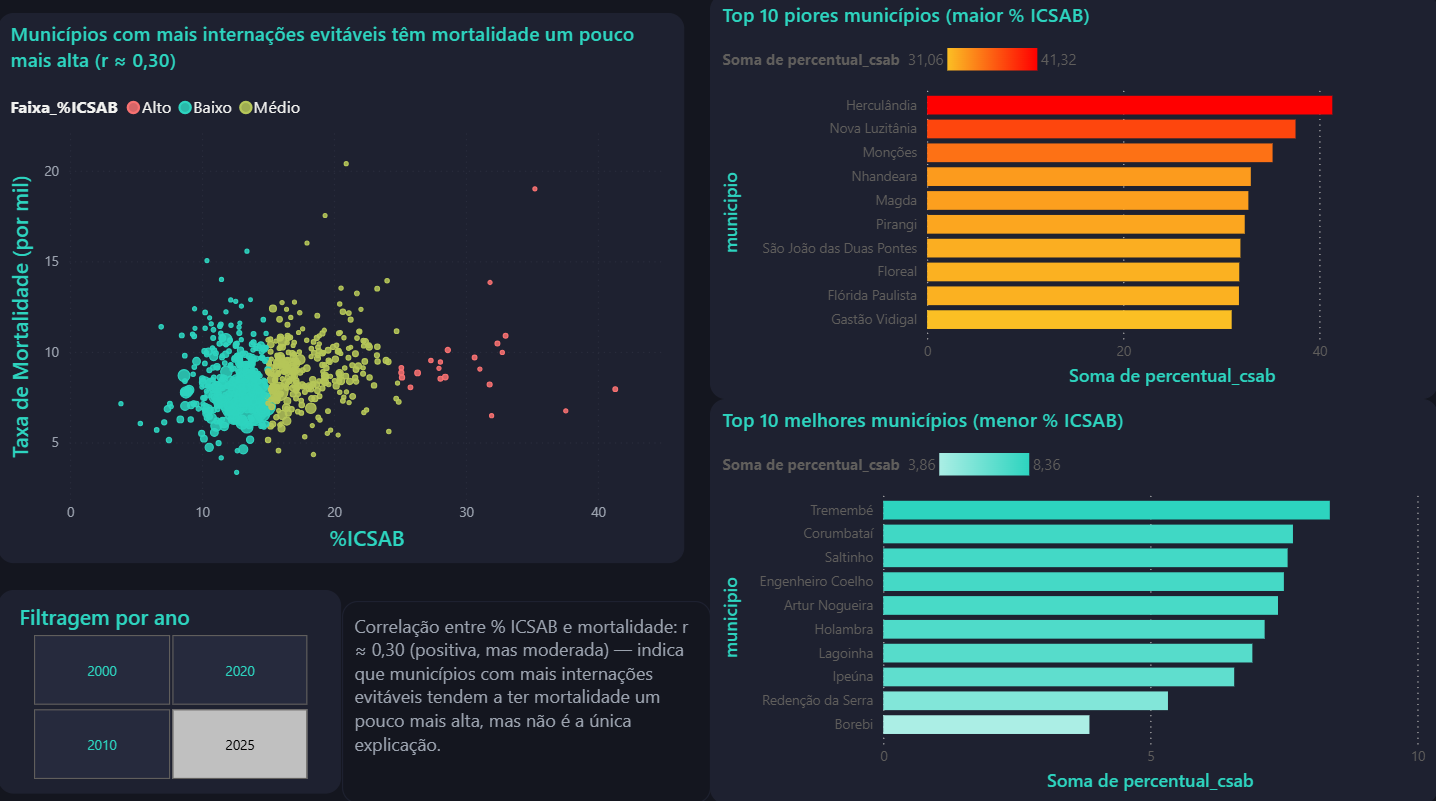

The dashboard page shown, as its layout file describes it:
{"tool":"powerbi","page":{"name":"Correlação","canvas":[1280,720],"ordinal":2},"visuals":[{"type":"slicer","title":"Filtragem por ano","fields":{"Values":["dataset_final_projeto_saude_sp_BR_1.ano"]},"box":[0,530.1,305.4,180.9],"z":0},{"type":"scatterChart","title":"Municípios com mais internações evitáveis têm mortalidade um pouco mais alta (r ≈ 0,30)","fields":{"X":["Sum(dataset_final_projeto_saude_sp_BR_1.percentual_csab)"],"Y":["Sum(dataset_final_projeto_saude_sp_BR_1.taxa_mortalidade_por_mil)"],"Size":["Sum(dataset_final_projeto_saude_sp_BR_1.populacao)"],"Category":["dataset_final_projeto_saude_sp_BR_1.municipio"],"Series":["dataset_final_projeto_saude_sp_BR_1.Faixa_%ICSAB"]},"box":[0,16.5,609.8,489.2],"z":1000},{"type":"textbox","box":[305.4,539.8,327.8,179.9],"z":2000},{"type":"clusteredBarChart","title":"Top 10 piores municípios (maior % ICSAB)","fields":{"Category":["dataset_final_projeto_saude_sp_BR_1.municipio"],"Y":["Sum(dataset_final_projeto_saude_sp_BR_1.percentual_csab)"]},"box":[633.2,0,646.8,359.9],"z":3000},{"type":"clusteredBarChart","title":" Top 10 melhores municípios (menor % ICSAB)","fields":{"Category":["dataset_final_projeto_saude_sp_BR_1.municipio"],"Y":["Sum(dataset_final_projeto_saude_sp_BR_1.percentual_csab)"]},"box":[633.2,359.9,646.8,359.9],"z":4000}]}

Visuals, with their boxes in screenshot pixels (x1, y1, x2, y2), scaled from the page's 1280x720 canvas onto the 1436x801 screenshot:
"Filtragem por ano" slicer: BBox(0, 590, 343, 791)
"Municípios com mais internações evitáveis têm mortalidade um pouco mais alta (r ≈ 0,30)" scatterChart: BBox(0, 18, 684, 563)
textbox: BBox(343, 601, 710, 800)
"Top 10 piores municípios (maior % ICSAB)" clusteredBarChart: BBox(710, 0, 1435, 400)
" Top 10 melhores municípios (menor % ICSAB)" clusteredBarChart: BBox(710, 400, 1435, 800)
